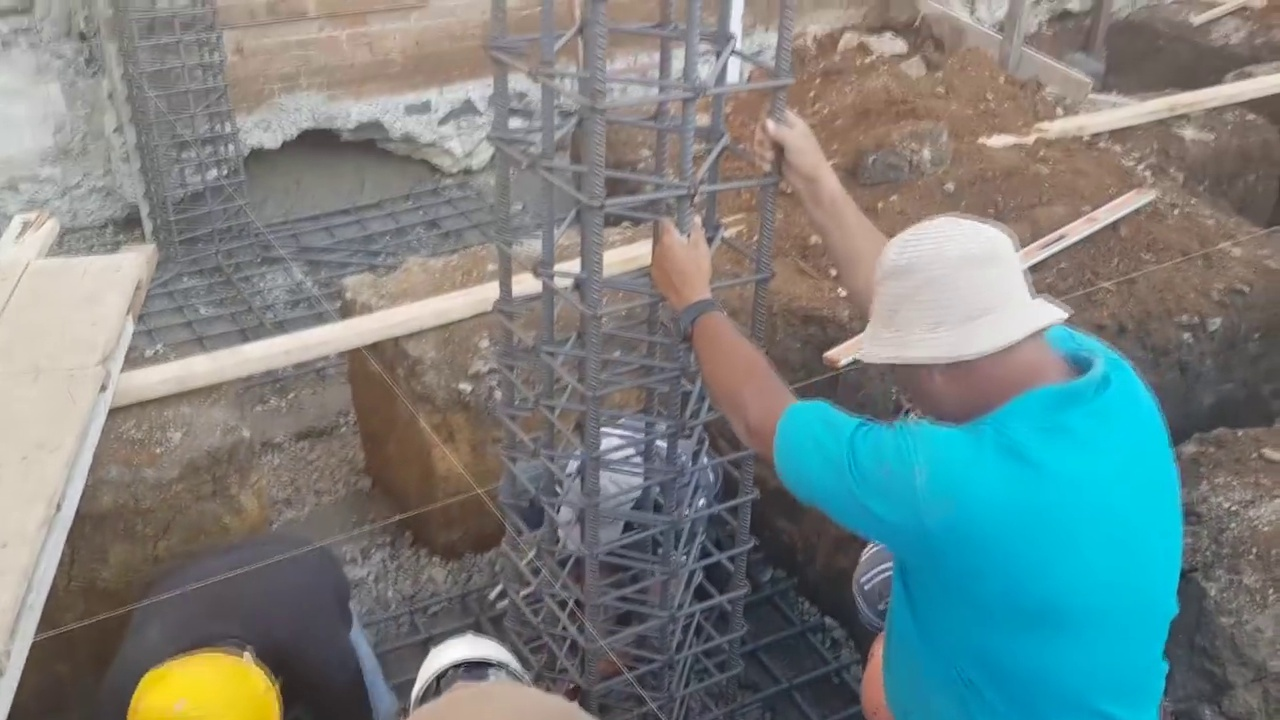helmet: (128, 651, 285, 720)
helmet-off: (846, 225, 1089, 415), (560, 434, 652, 549)
helmet-on: (123, 623, 300, 717), (407, 639, 512, 712)
person: (669, 105, 1204, 720), (69, 507, 404, 714), (494, 406, 717, 633), (398, 620, 603, 714)
